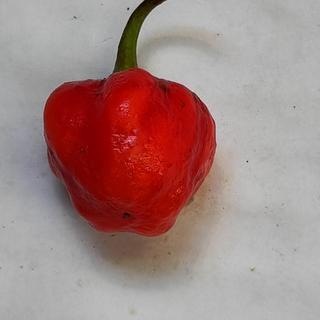Grade-B: (34, 69, 222, 239)
